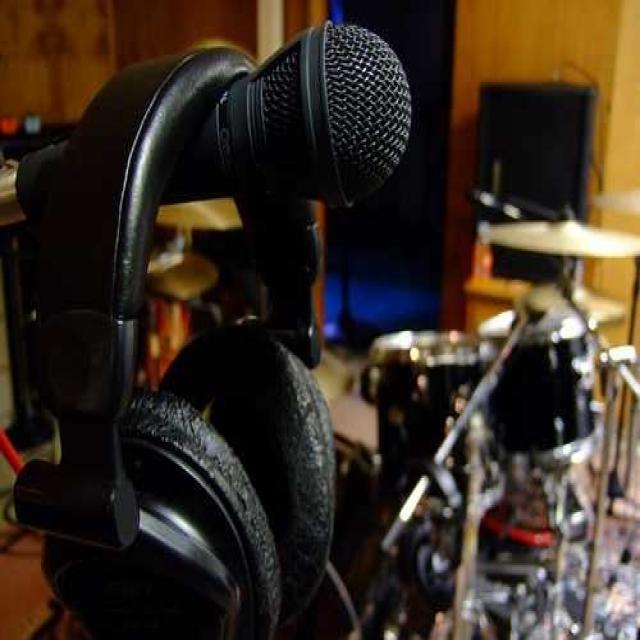microphone: (96, 21, 422, 204)
